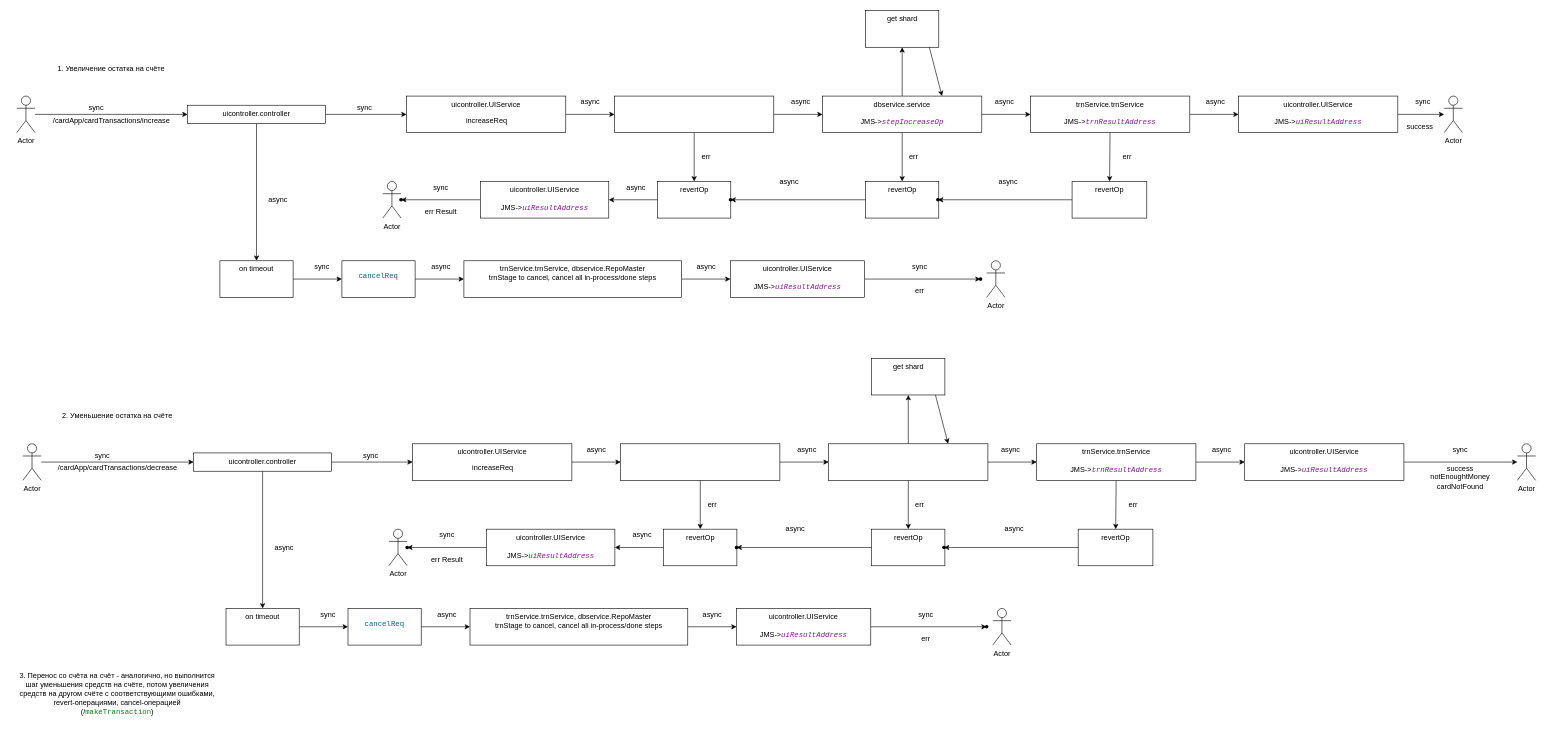
Image size: 1546x729. Some labels were removed from this diagram. Here are the shapes that lost their labels. From the top down, the box of each, then its label:
(614, 95, 774, 133): trnService.trnService JMS-> increaseOpFromUi
(620, 443, 780, 480): trnService.trnService JMS-> decreaseOpFromUi
(828, 443, 988, 480): dbservice.service JMS-> stepDecreaseOp
